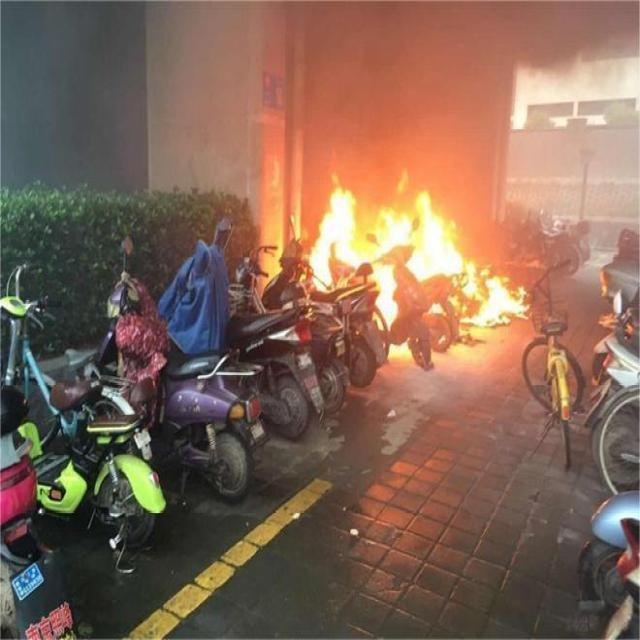Fire: (362, 190, 462, 279), (309, 182, 362, 289), (462, 262, 528, 326), (373, 262, 399, 326)
